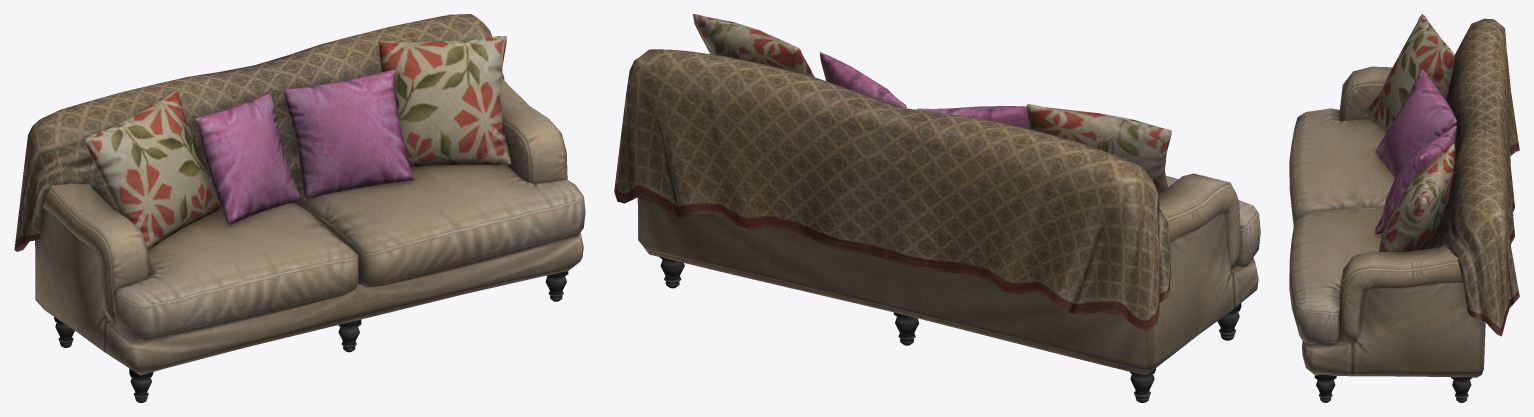
The model's file is Sofa.fbx.
3 views of the same model, side by side, from view 1: azimuth 30°, elevation 25°; view 2: azimuth 150°, elevation 25°; view 3: azimuth 270°, elevation 25° (orthographic). The views are drawn at different scales.
Parts seen in each view (by area): view 1: Sofa; view 2: Sofa; view 3: Sofa.
Part boxes in pixels (x1,y1,x2,y2): Sofa: (14, 14, 585, 402); Sofa: (614, 14, 1260, 402); Sofa: (1289, 14, 1519, 402).
Bounding box in the file's own units: 2.17 × 1.01 × 1.
